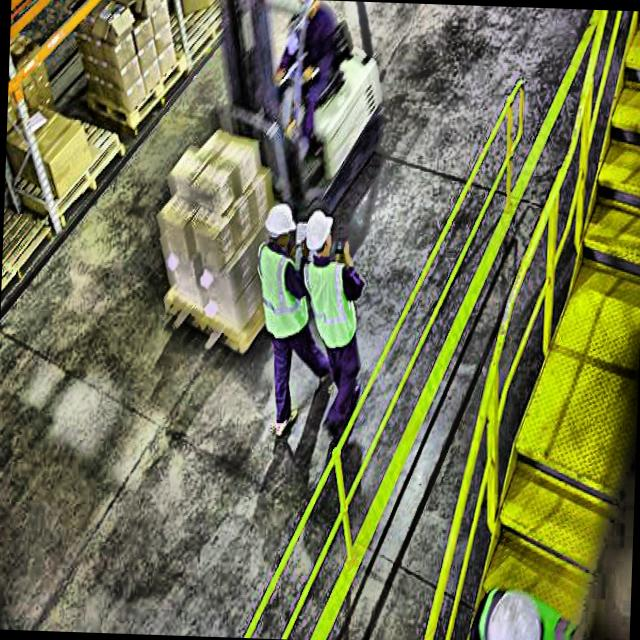helmet: (263, 198, 297, 249), (304, 210, 331, 256)
